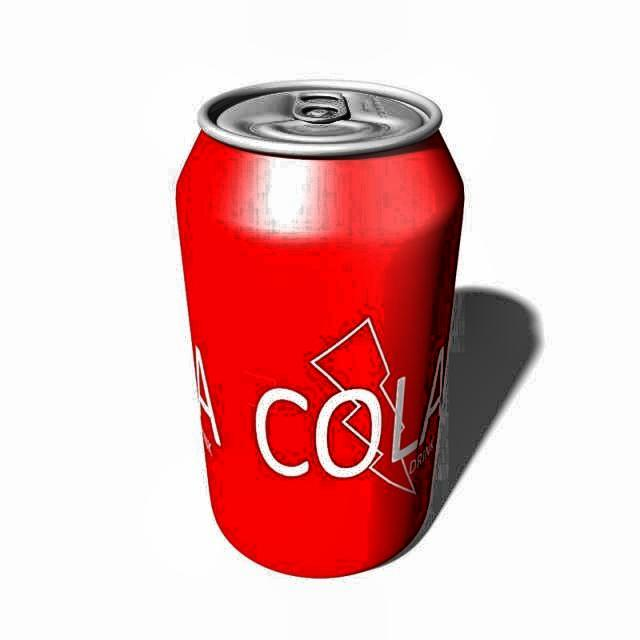can: (168, 67, 471, 590)
